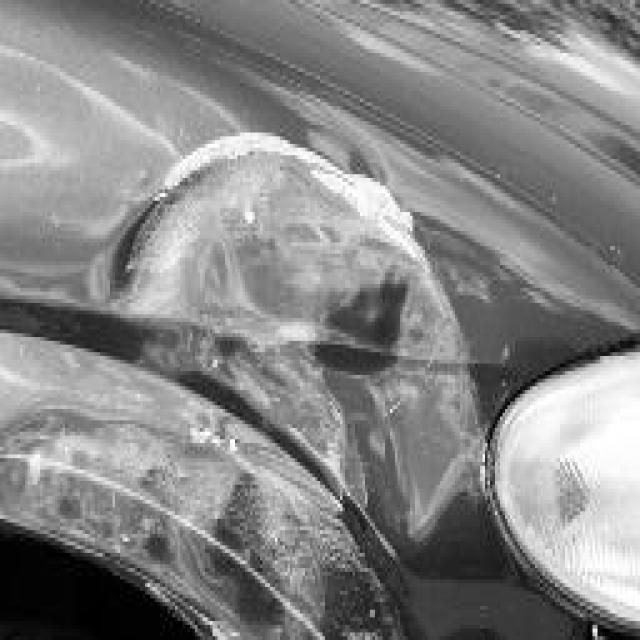Fender: (0, 15, 581, 640)
